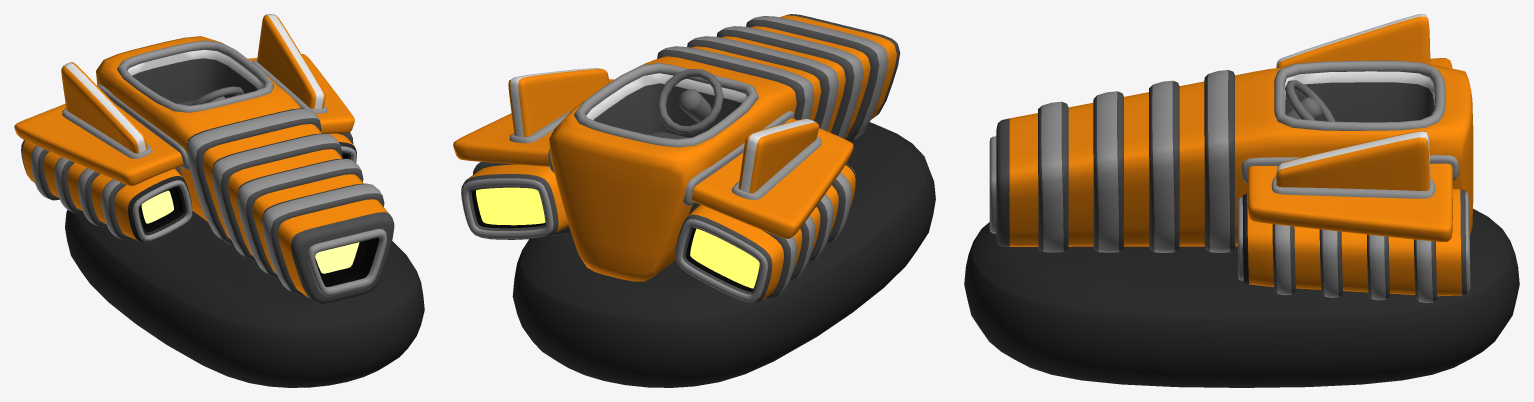
Rendered from mesh_Car_Menu_D.fbx.
The picture shows the model from 3 angles, left to right: view 1: azimuth 30°, elevation 25°; view 2: azimuth 150°, elevation 25°; view 3: azimuth 270°, elevation 25°; orthographic projection. The views are drawn at different scales.
Visible parts, largest first — view 1: mesh_Car_Menu_D; view 2: mesh_Car_Menu_D; view 3: mesh_Car_Menu_D.
Boxes of the visible parts, left/top/right/bottom form: mesh_Car_Menu_D: left=14, top=14, right=424, bottom=387; mesh_Car_Menu_D: left=453, top=14, right=935, bottom=387; mesh_Car_Menu_D: left=964, top=14, right=1519, bottom=387.
Size of the model in its own units: 2.17 by 1.56 by 2.97.
